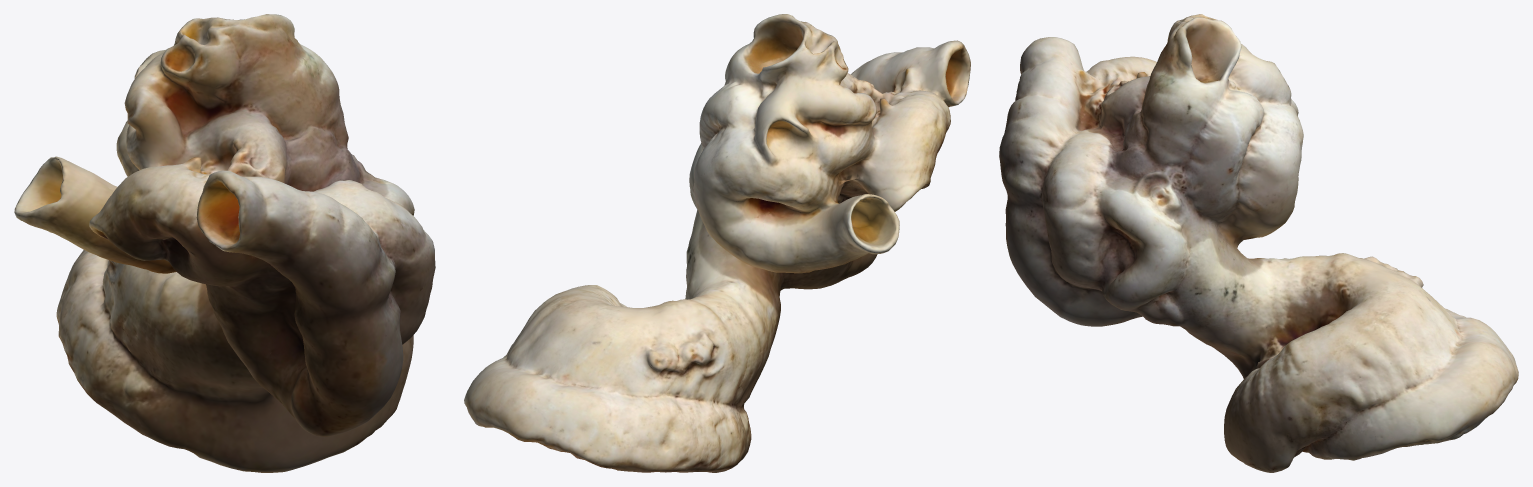
The model's file is Tube Worms.glb.
3 views of the same model, side by side, from view 1: azimuth 30°, elevation 25°; view 2: azimuth 150°, elevation 25°; view 3: azimuth 270°, elevation 25° (orthographic). The views are drawn at different scales.
Bounding box in the file's own units: 0.4058 × 0.4595 × 0.5513.
Materials: 1 (1 with a texture image).
